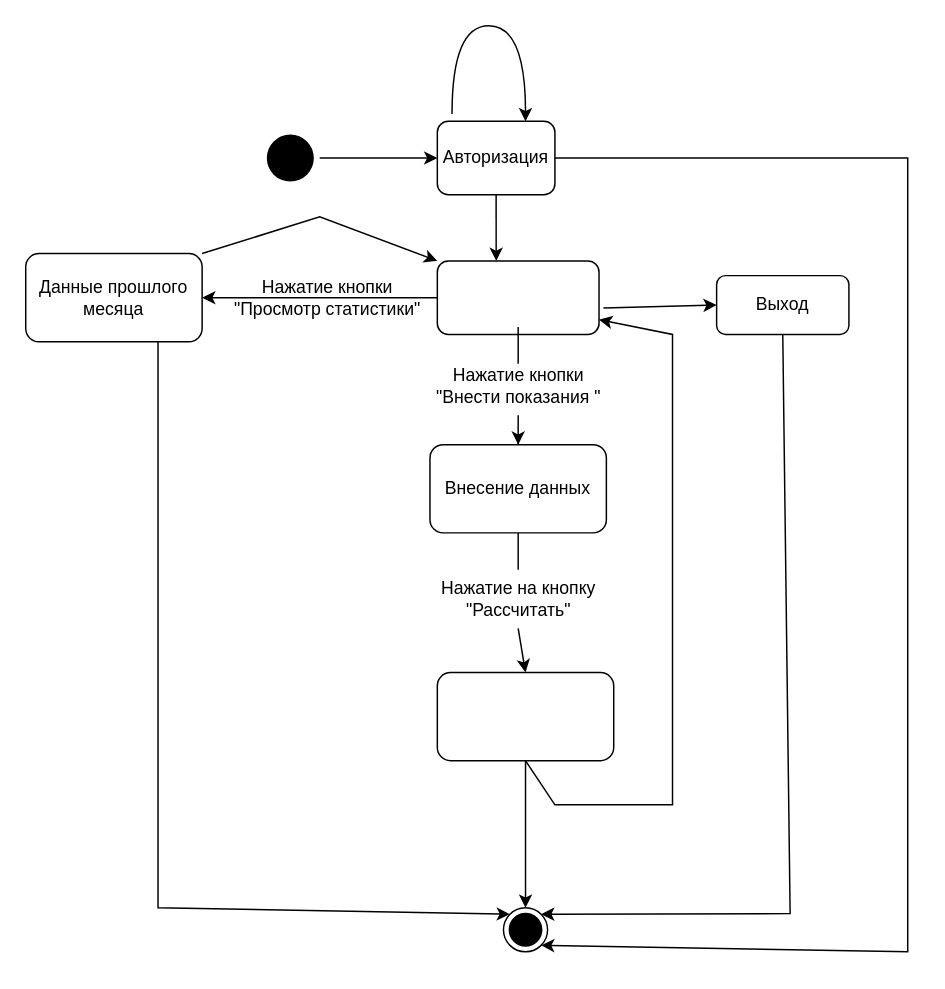
Some shapes in this 945 by 989 pixel diagram are drawn without their labels. Each missing label, with the centre of its shape:
Вывод счета расчета: point (525, 716)
Главная страница: point (517, 296)
